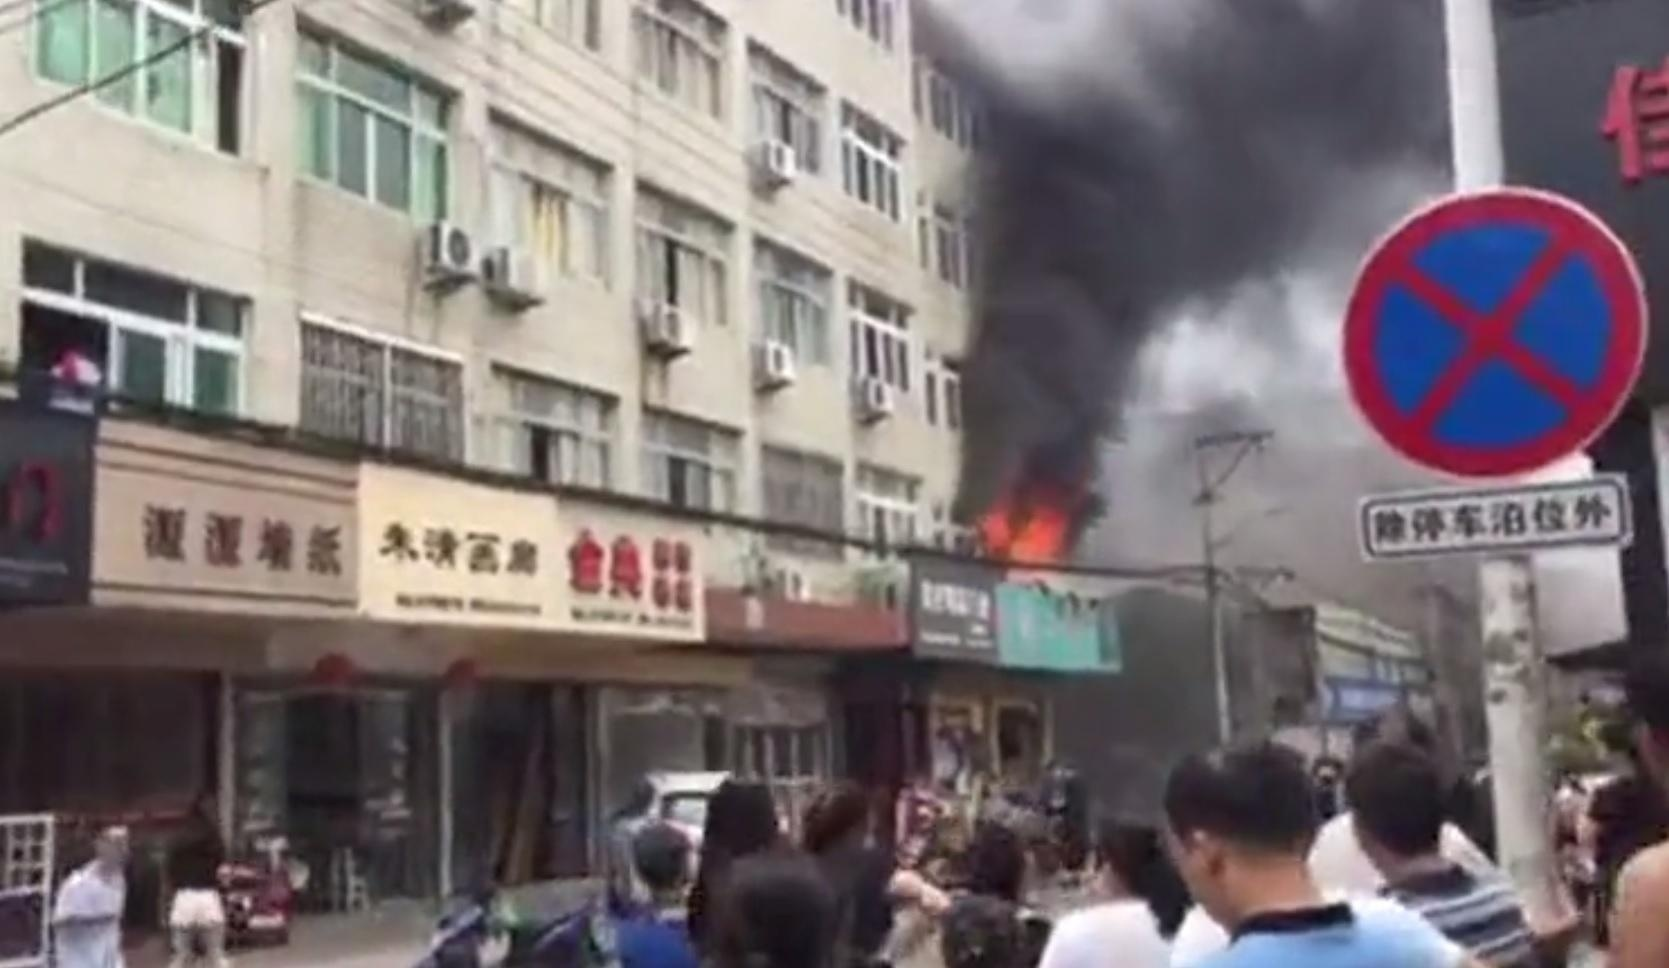fire: (974, 496, 1079, 564)
